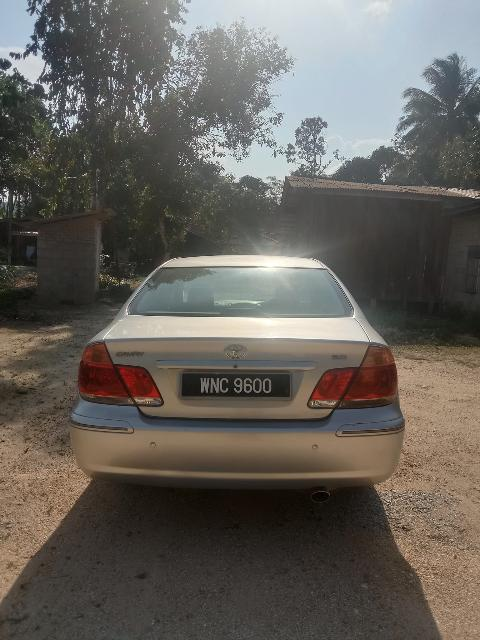License_Plate: (180, 369, 292, 406)
car: (70, 242, 412, 501)
